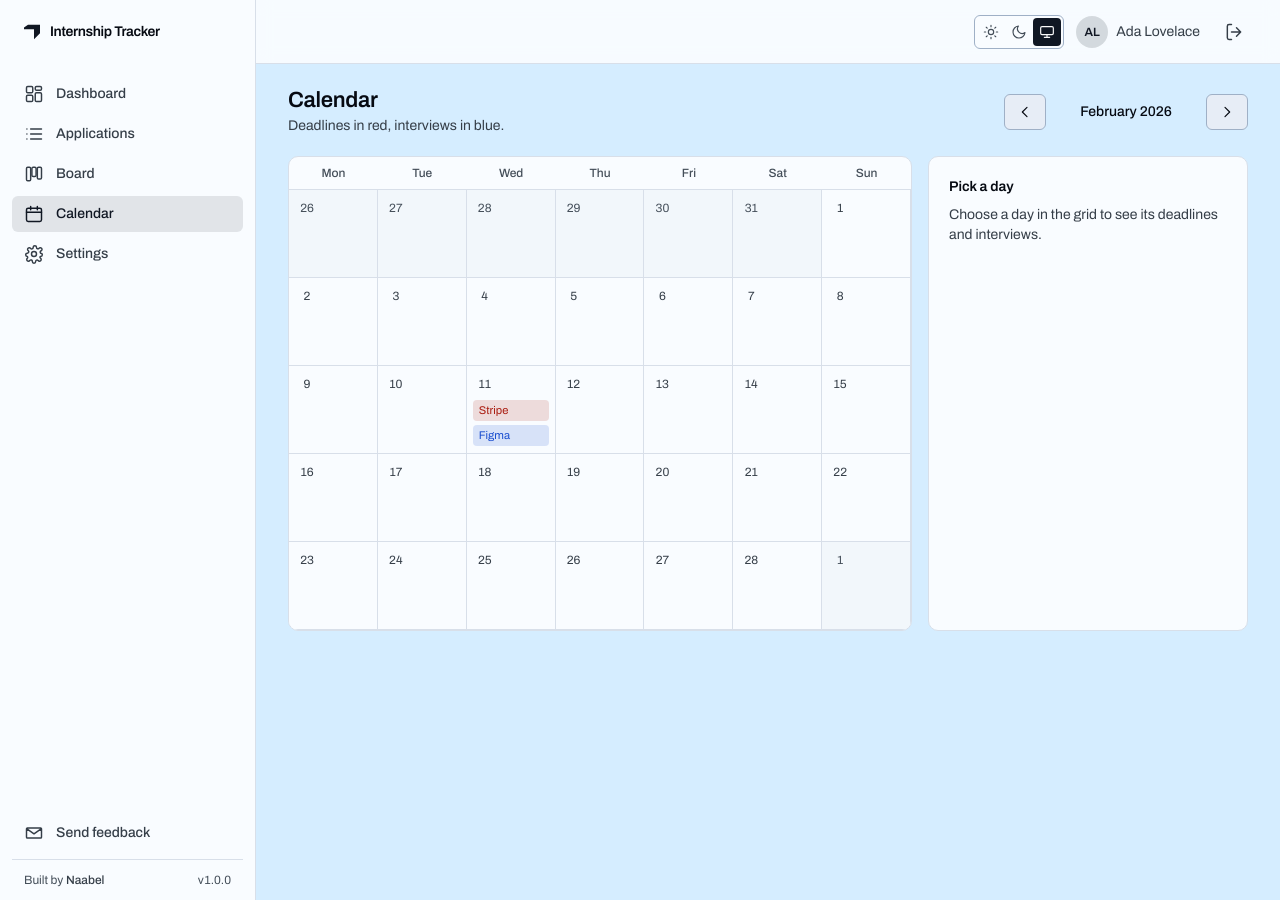
it: month navigation › requests the new range from the server rather than filtering one window
Expected: the text "February 2026" is shown, [1080,104,1172,119]
Click the button named "Next month": {"x": 1227, "y": 112} [1206,94,1248,130]
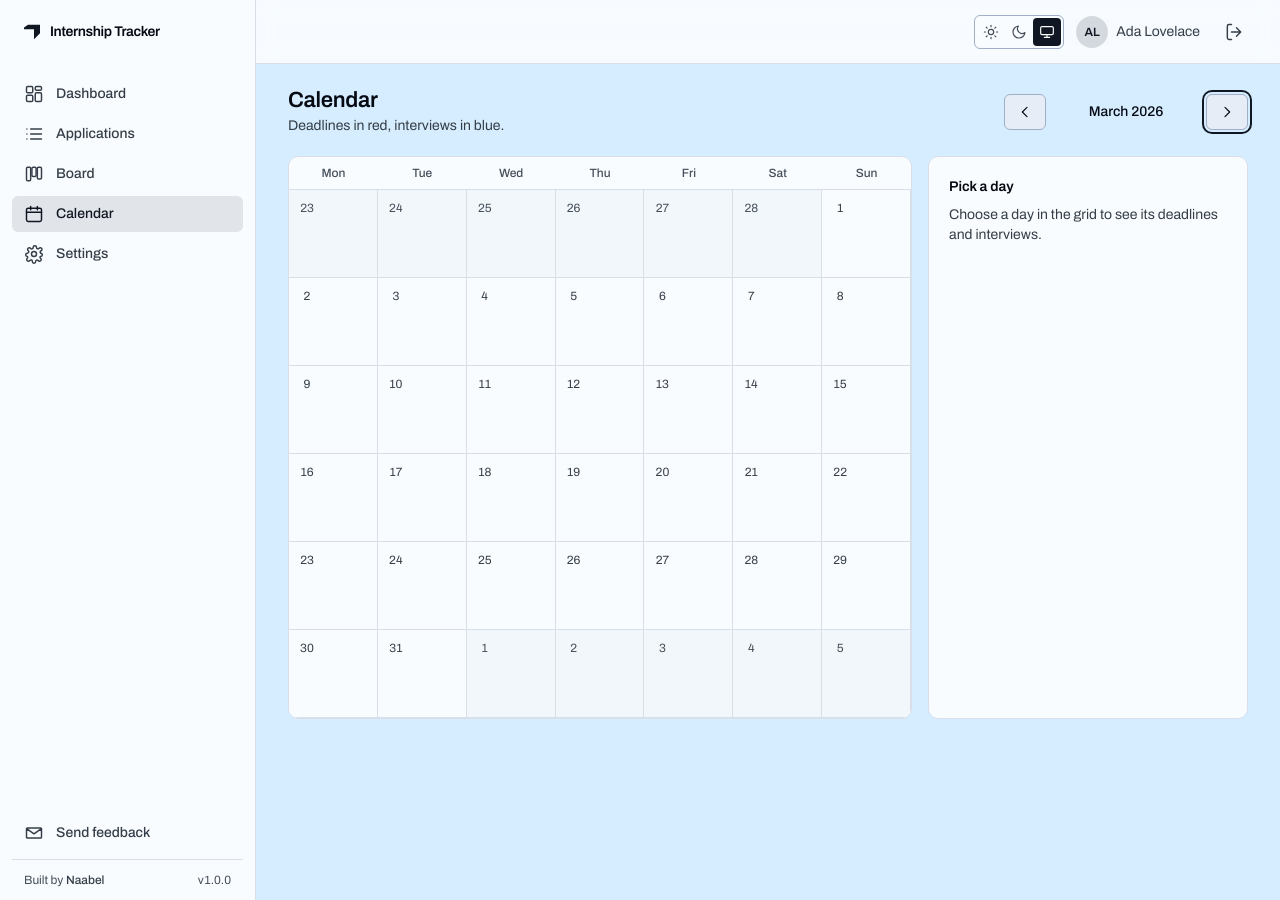
Expected: the text "March 2026" is shown, [1089,104,1163,119]
